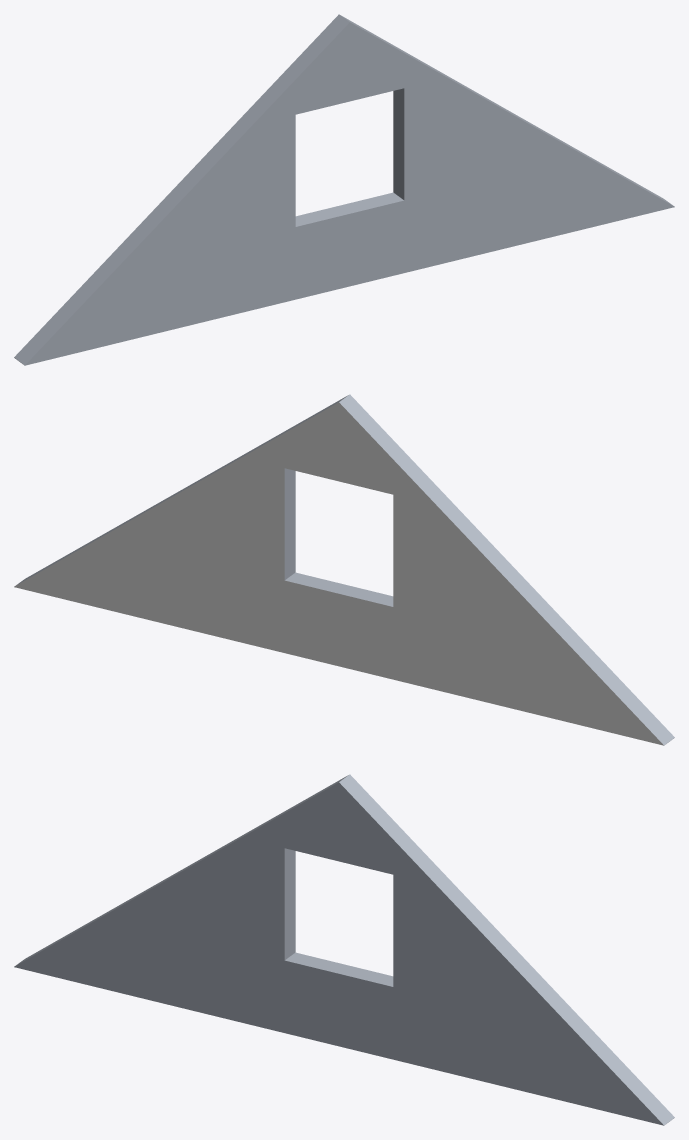
File: Wall1_C5_17.fbx
3 views of the same model, one above another, from view 1: azimuth 30°, elevation 25°; view 2: azimuth 150°, elevation 25°; view 3: azimuth 330°, elevation 25° (orthographic).
Visible parts, largest first — view 1: Wall1_C5_17; view 2: Wall1_C5_17; view 3: Wall1_C5_17.
Boxes of the visible parts, box(x1,y1,x2,y2) form: Wall1_C5_17: box(14, 14, 674, 365); Wall1_C5_17: box(14, 394, 674, 745); Wall1_C5_17: box(14, 774, 674, 1125).
Size of the model in its own units: 515 by 200 by 15.
